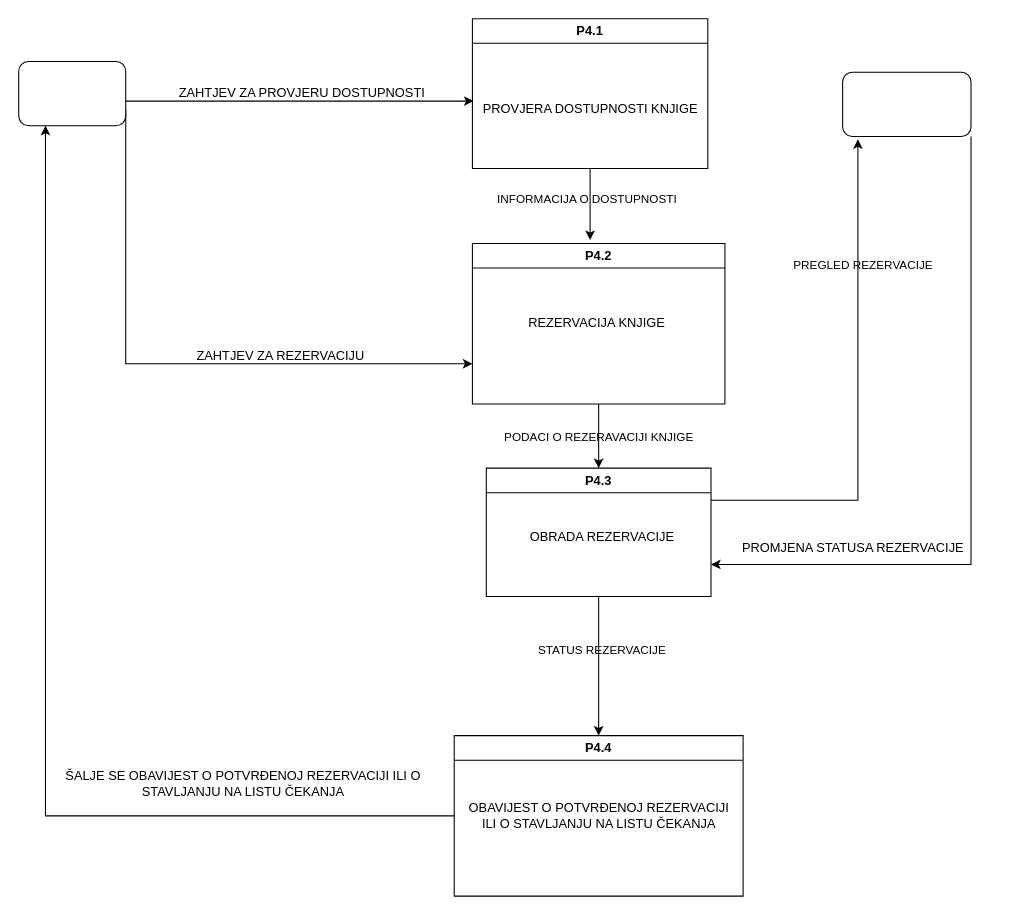
Image size: 1011x915. Some labels were removed from this diagram. The shapes that lost their labels are listed below. From the top down, each one's centre as x and y in pixels, then its label:
[72,93]: STUDENT
[906,103]: KNJIŽNIČAR
